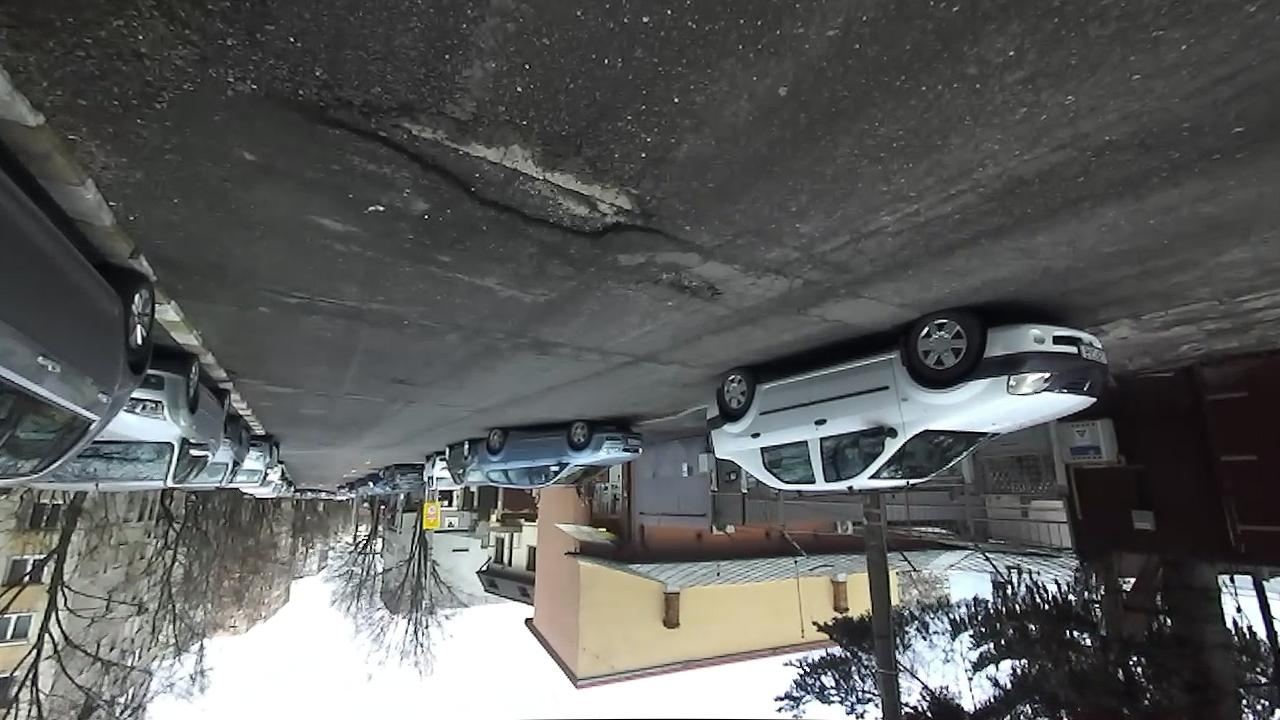pothole: (280, 90, 690, 248), (638, 266, 731, 309), (277, 285, 362, 317)
